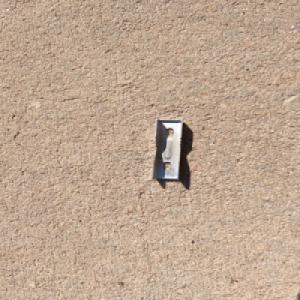ClampPart: (149, 116, 186, 181)
